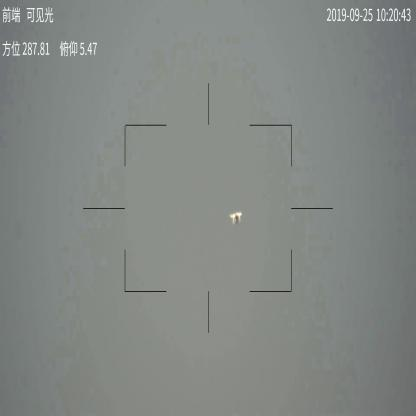uav: (229, 209, 245, 226)
